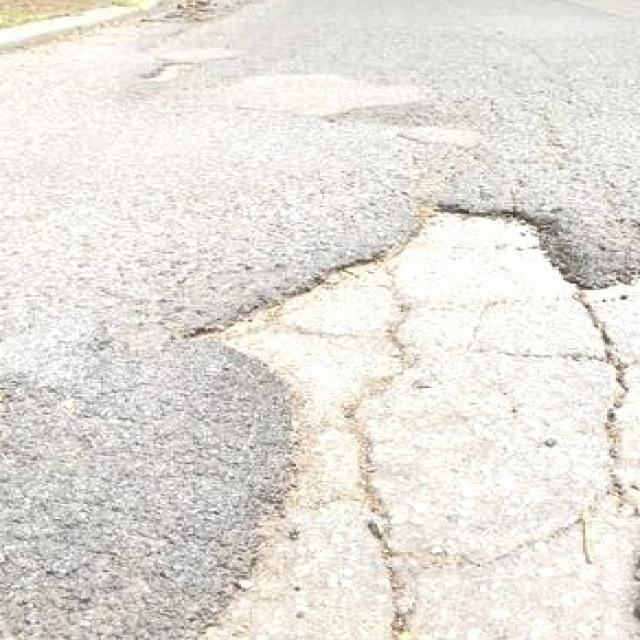road-pothole: (194, 191, 638, 638)
